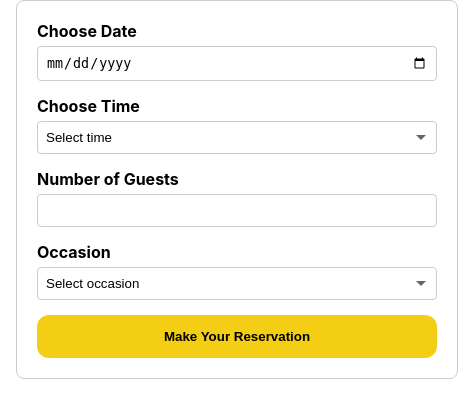
Test: BookingForm › should show error when occasion is invalid
Note: Fill in date and time, and guests, but leave occasion empty
Type "2025-10-20" into the date field labelled "Choose Date" at (237, 64), box [37,46,437,81]
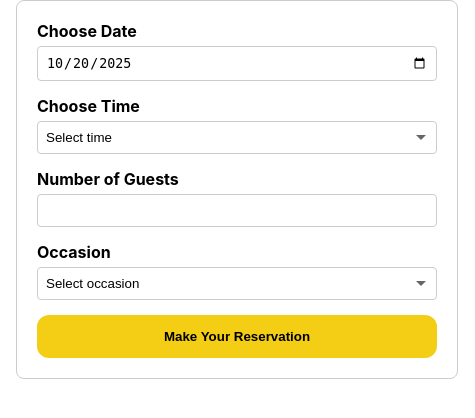
Select "17:00" in the dropdown labelled "Choose Time" at (237, 138), box [37,121,437,154]
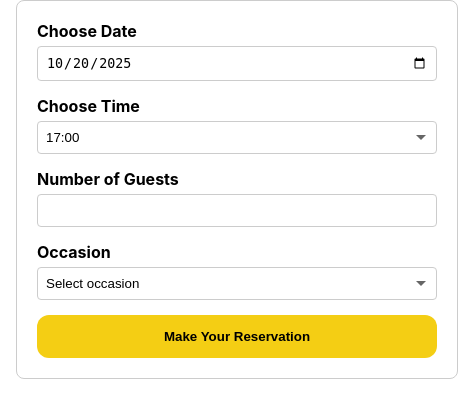
Type "4" into the number field labelled "Number of Guests" at (237, 211), box [37,194,437,227]
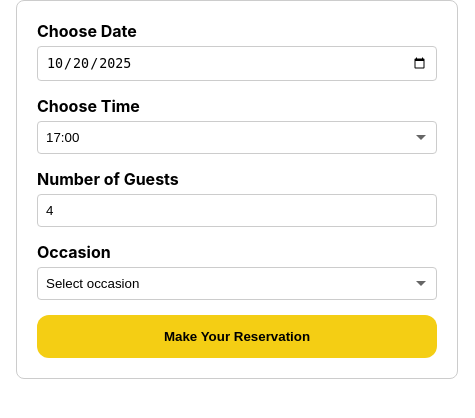
Select "Select occasion" in the dropdown labelled "Occasion" at (237, 284), box [37,267,437,300]
Click the button "Make Your Reservation" at (237, 337), box [37,315,437,358]
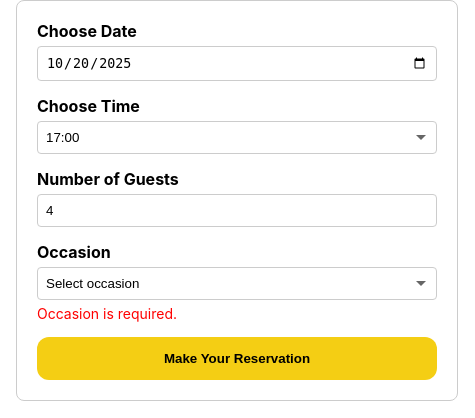
Now the text "Occasion is required." is shown, box [37,305,177,322]
